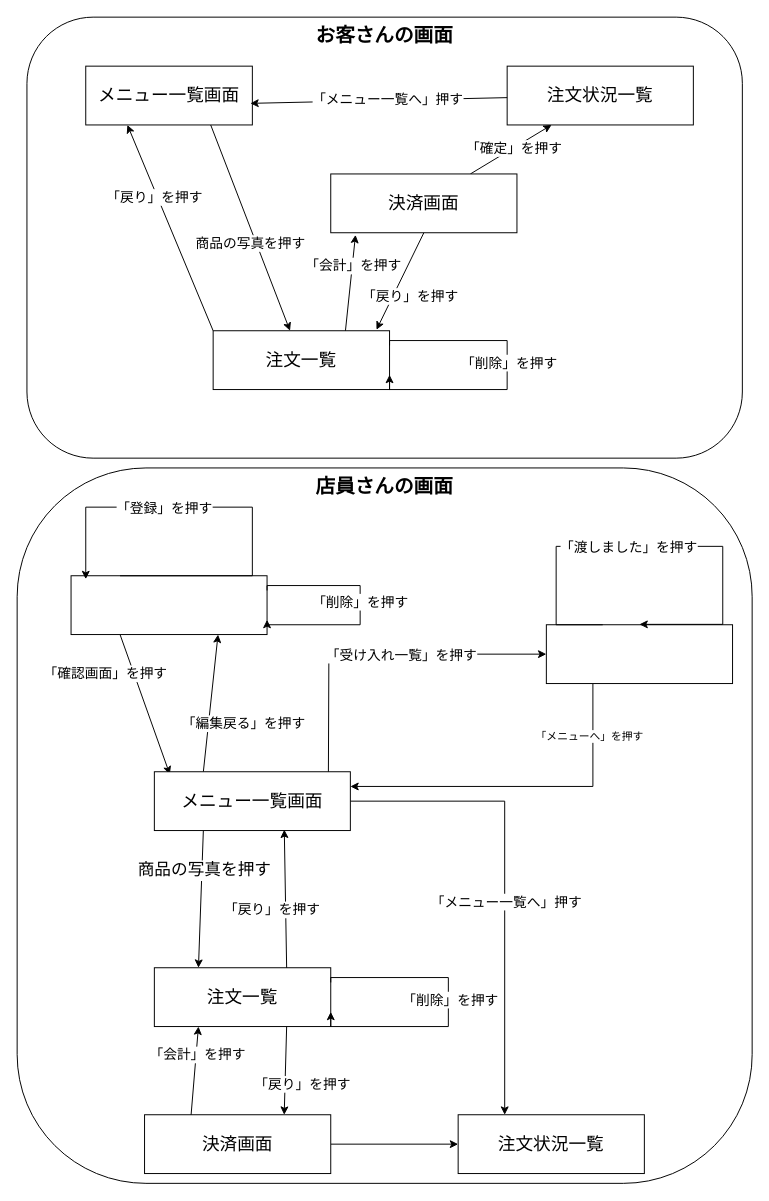
The diagram is 769 pixels wide and 1201 high, and some of its shapes have lost their labels. Here are the shapes that lost their labels. From the top down, the centre of each, then its label:
(x=168, y=605): メニュ編集一覧
(x=639, y=654): 注文受け入れ一覧
